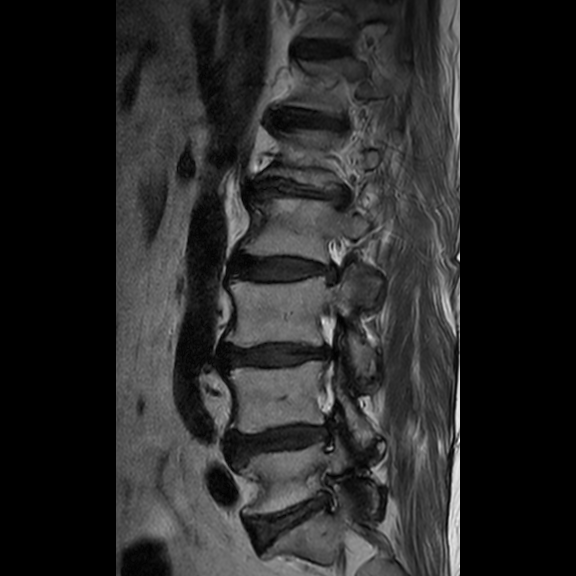LFS0: (312, 221, 358, 296)
